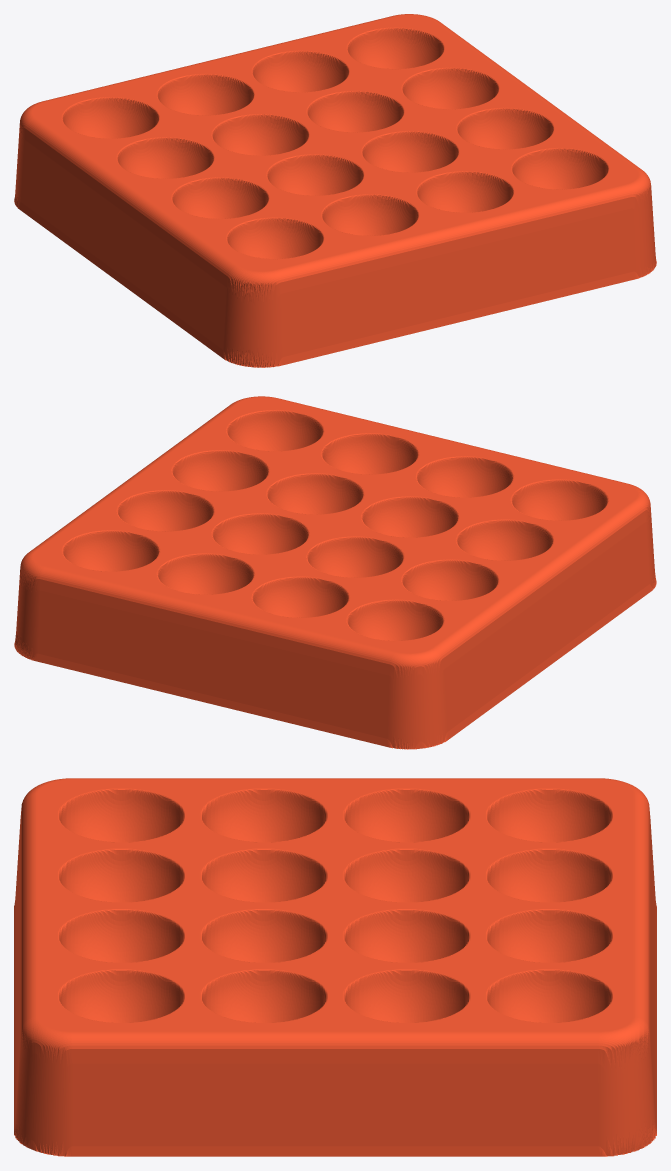
The model's file is mold.glb.
The picture shows the model from 3 angles, top to bottom: view 1: azimuth 30°, elevation 25°; view 2: azimuth 150°, elevation 25°; view 3: azimuth 270°, elevation 25°; orthographic projection. The views are drawn at different scales.
Parts seen in each view (by area): view 1: geometry_0; view 2: geometry_0; view 3: geometry_0.
Part boxes in pixels (<box>): geometry_0: <box>14,14,656,367</box>; geometry_0: <box>14,396,656,749</box>; geometry_0: <box>14,778,656,1156</box>.
Size of the model in its own units: 0.0992 by 0.0196 by 0.0992.
